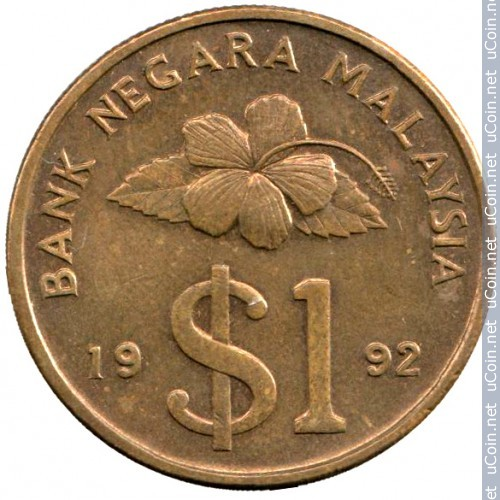1r: (5, 4, 496, 488)
